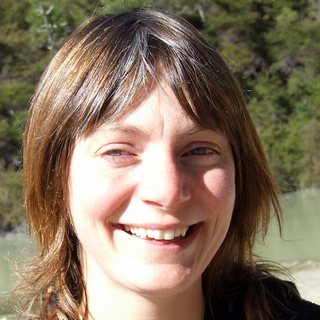eye: (93, 142, 145, 165), (180, 141, 224, 164)
